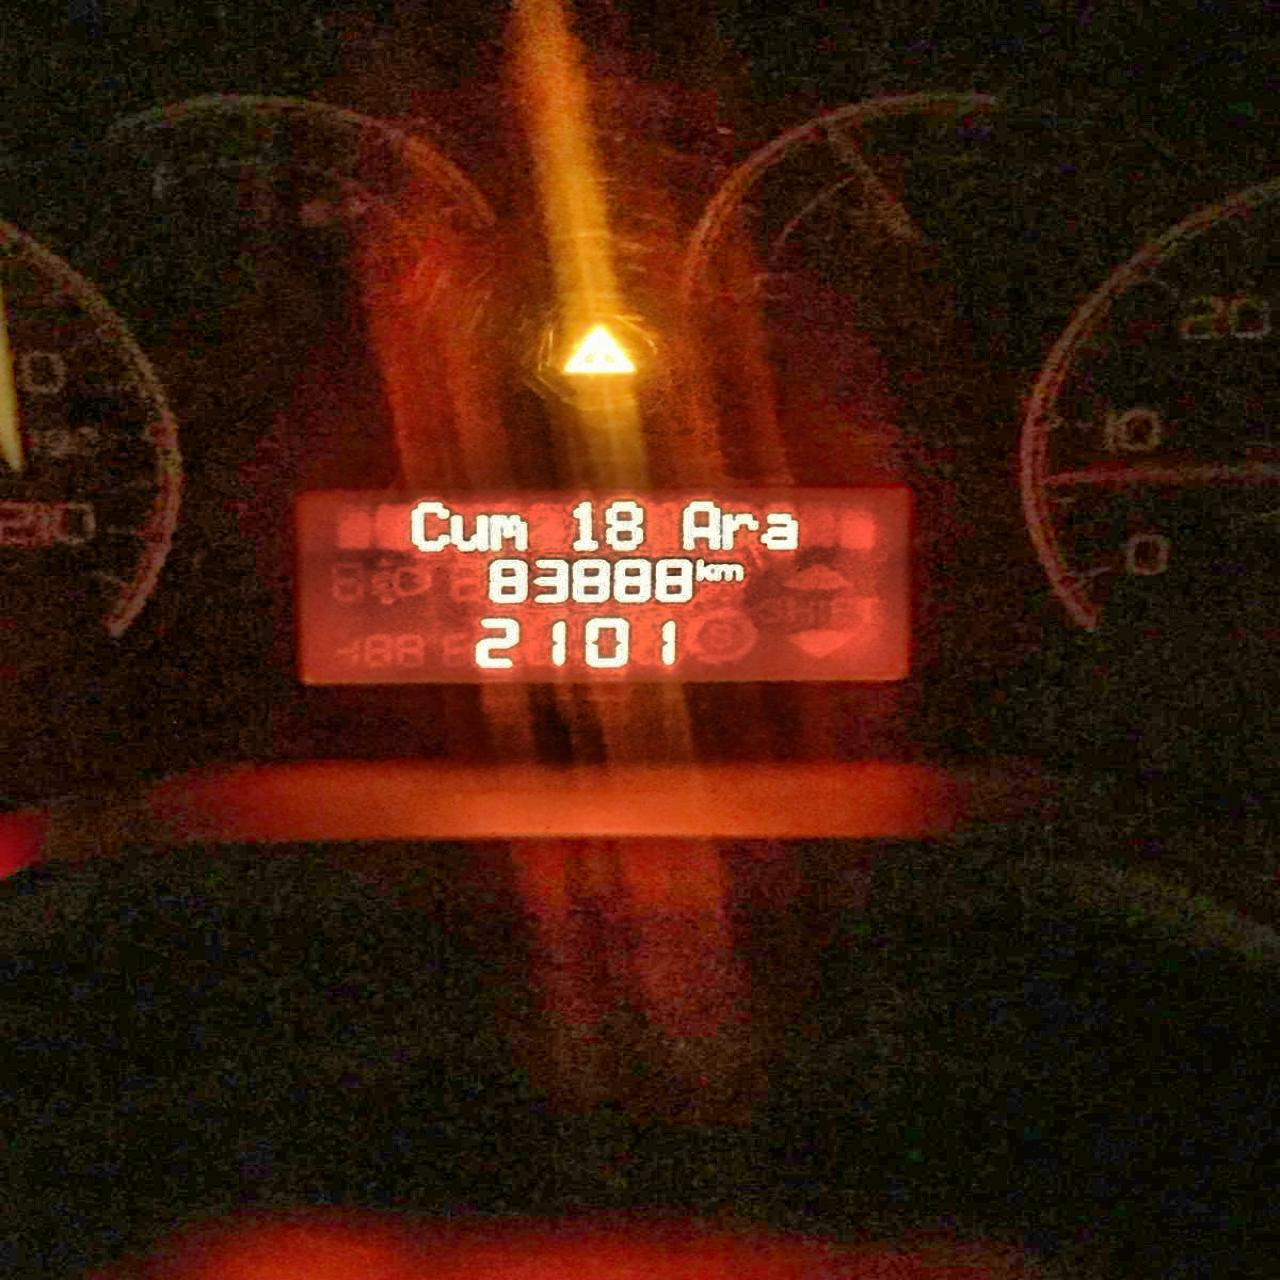0: (584, 617, 633, 669)
1: (570, 498, 599, 553), (549, 617, 568, 666), (659, 619, 679, 666)
2: (474, 614, 522, 669)
3: (532, 556, 568, 606)
8: (601, 498, 645, 552), (488, 557, 530, 602), (571, 558, 611, 604), (612, 556, 652, 601), (655, 554, 693, 602)
X: (409, 501, 449, 552), (681, 501, 721, 550), (720, 512, 762, 550), (450, 512, 489, 551), (490, 512, 529, 550), (763, 512, 799, 550), (714, 560, 743, 581), (694, 558, 713, 581)
odometer: (284, 479, 918, 690)
